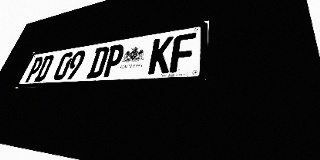0: (52, 52, 75, 81)
9: (64, 50, 87, 80)
D: (86, 46, 110, 78), (33, 55, 55, 82)
F: (169, 32, 196, 73)
K: (147, 36, 174, 74)
P: (101, 43, 126, 77), (24, 56, 45, 82)
